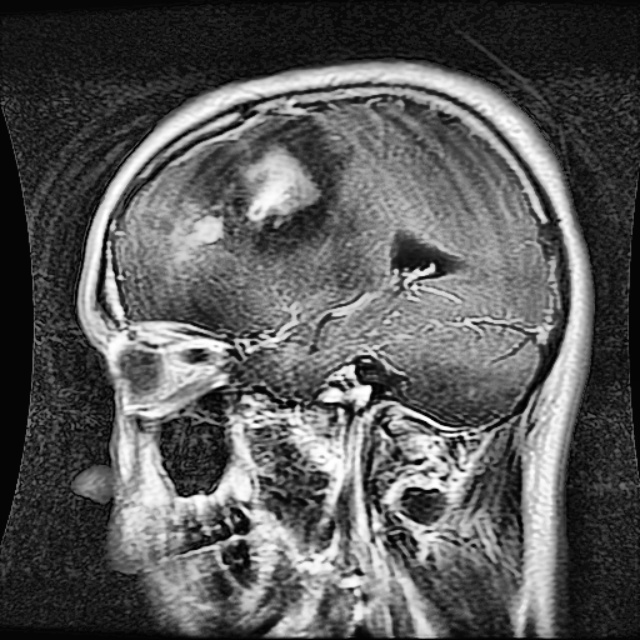Meningioma: (175, 114, 353, 262)
